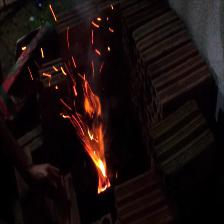fire: (35, 53, 144, 206)
